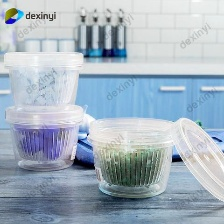plastic_box: (84, 112, 223, 205), (0, 99, 87, 177), (0, 45, 87, 114)
